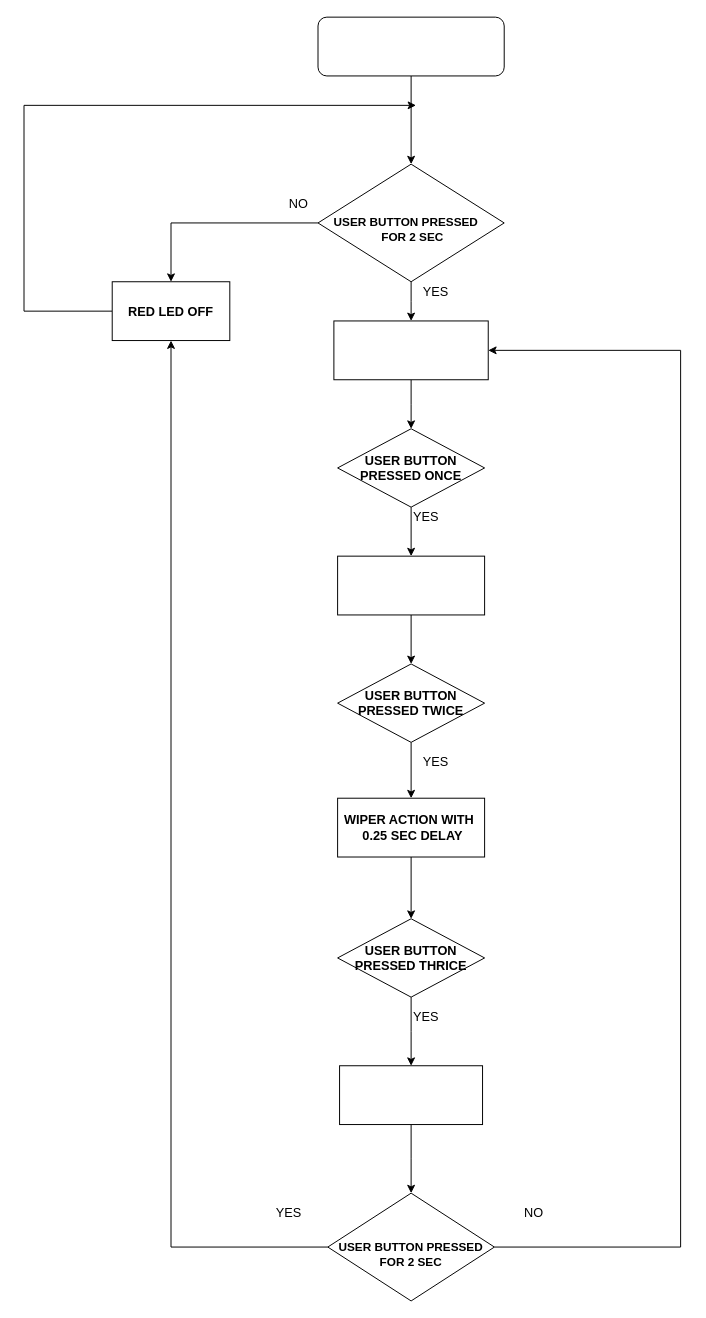
This 706x1318 diagram has some shape labels left out. Each missing label, with the box of its shape:
POWER UP HARDWARE: (317, 16, 504, 76)
RED LED ON: (333, 320, 488, 380)
WIPER ACTION WITH 0.125 SEC DELAY: (339, 1065, 483, 1125)
WIPER ACTION WITH 1 SEC DELAY: (337, 555, 485, 615)
